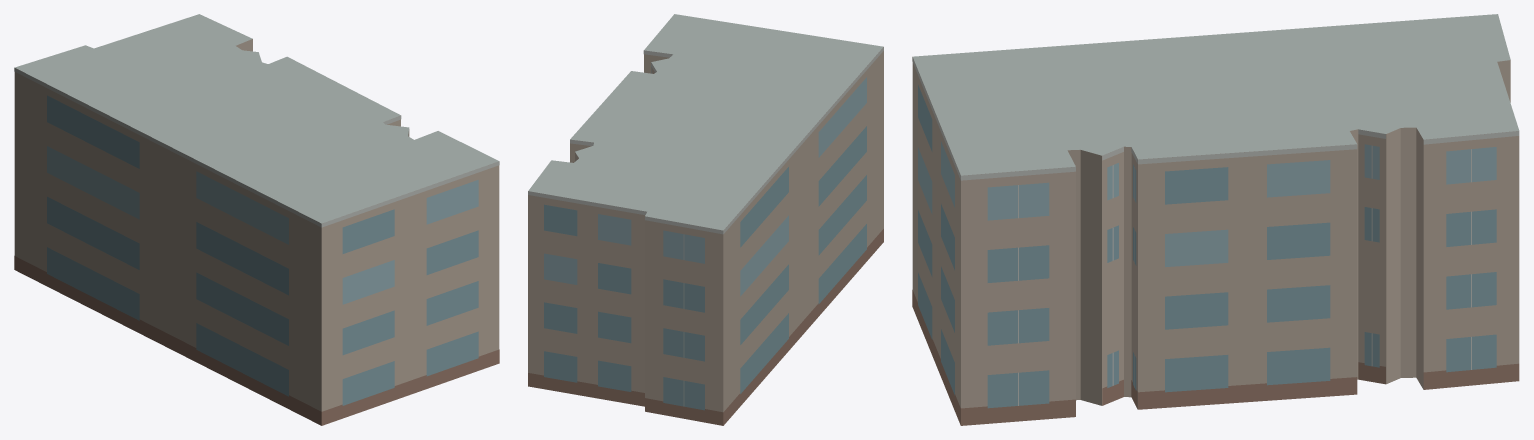
File: survey-upis-32910630.glb
3 views of the same model, side by side, from view 1: azimuth 30°, elevation 25°; view 2: azimuth 150°, elevation 25°; view 3: azimuth 270°, elevation 25° (orthographic). The views are drawn at different scales.
Parts seen in each view (by area): view 1: survey-upis-32910630.tmp; view 2: survey-upis-32910630.tmp; view 3: survey-upis-32910630.tmp.
Boxes of the visible parts, bbox=[...] form: survey-upis-32910630.tmp: bbox=[14, 14, 499, 425]; survey-upis-32910630.tmp: bbox=[528, 14, 883, 425]; survey-upis-32910630.tmp: bbox=[912, 14, 1519, 425].
Size of the model in its own units: 17.05 by 12.3 by 27.05.
